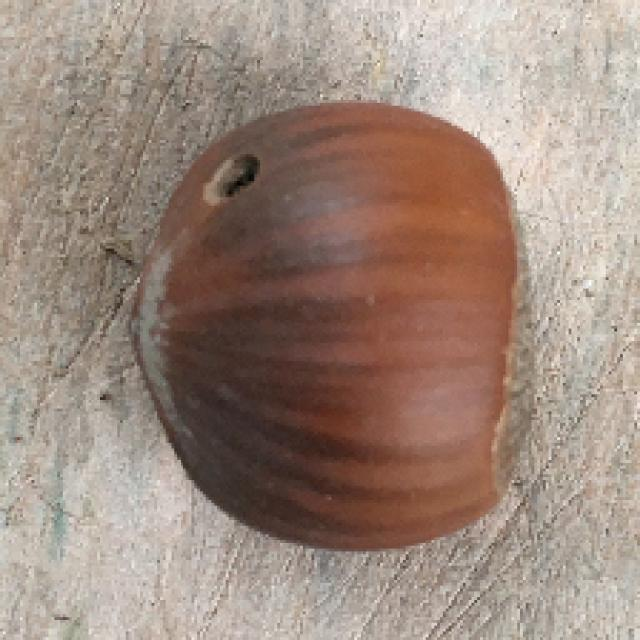damagedHazelnut: (119, 97, 554, 545)
